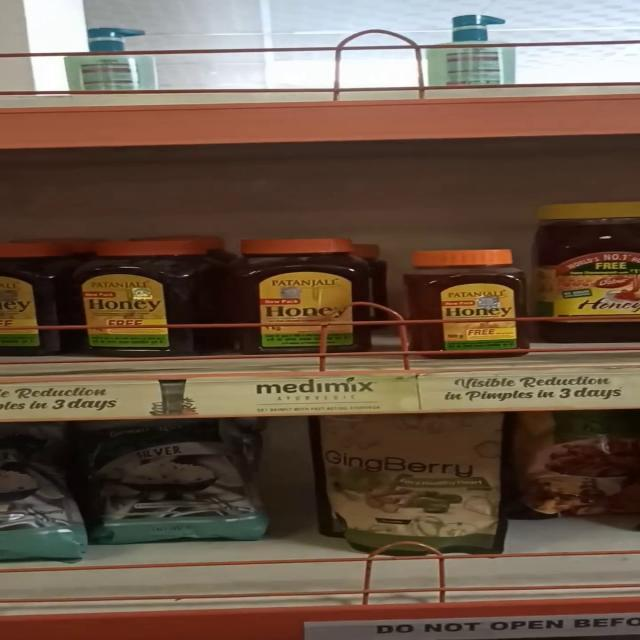Dabur Honey: (539, 195, 640, 335)
Patanjali Honey: (231, 238, 373, 345), (400, 246, 530, 356), (77, 240, 196, 347)
